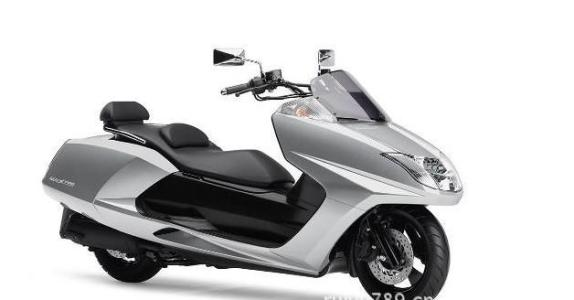motor: (58, 45, 454, 300)
